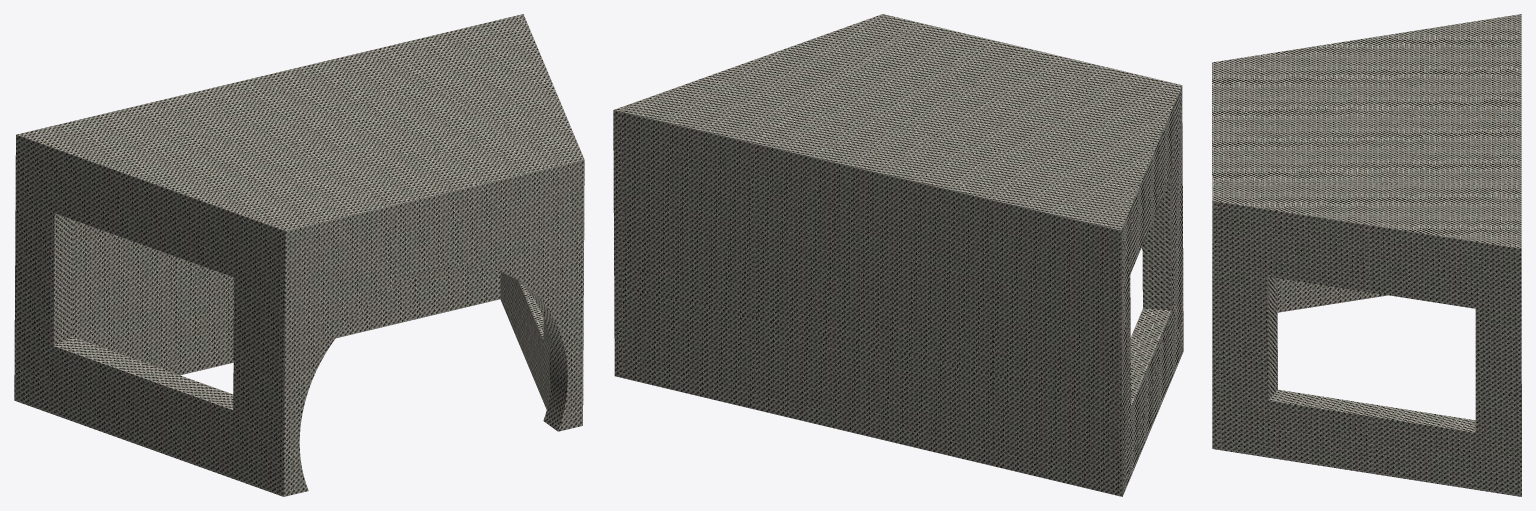
Rendered from shed.obj.
3 renders of one model, left to right at view 1: azimuth 30°, elevation 25°; view 2: azimuth 150°, elevation 25°; view 3: azimuth 270°, elevation 25°, orthographic. The views are drawn at different scales.
Visible parts, largest first — view 1: Shed; view 2: Shed; view 3: Shed.
Part boxes in pixels (box(x1,y1,x2,y2)): Shed: box(14, 14, 584, 496); Shed: box(613, 14, 1183, 496); Shed: box(1212, 14, 1521, 496).
Size of the model in its own units: 14.06 by 7.09 by 7.91.
